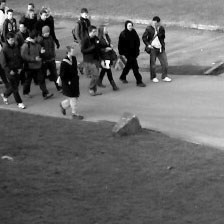person: (22, 30, 52, 100), (117, 18, 146, 86), (142, 15, 169, 81), (1, 33, 24, 107), (81, 25, 102, 96), (98, 24, 119, 91), (60, 44, 79, 117), (40, 25, 60, 89), (75, 7, 91, 70), (40, 6, 59, 47), (19, 3, 34, 31), (2, 8, 16, 37), (26, 11, 38, 37), (37, 9, 47, 37), (1, 1, 8, 27)
